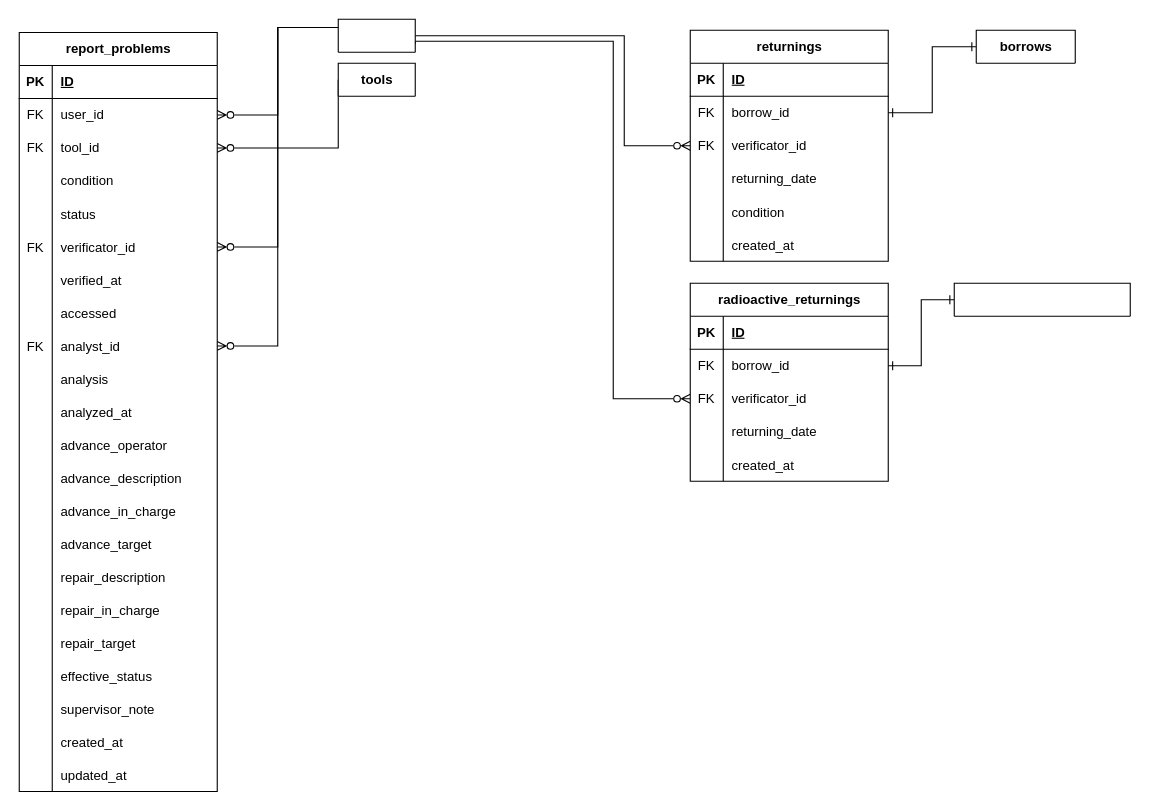
Image size: 1150x811. Some labels were removed from this diagram. The shapes that lost their labels are listed below. From the top down, each one's centre as x and y in pixels, then its label:
At [376,35]: "Users".
At [1041,299]: "radioactive_borrows".
